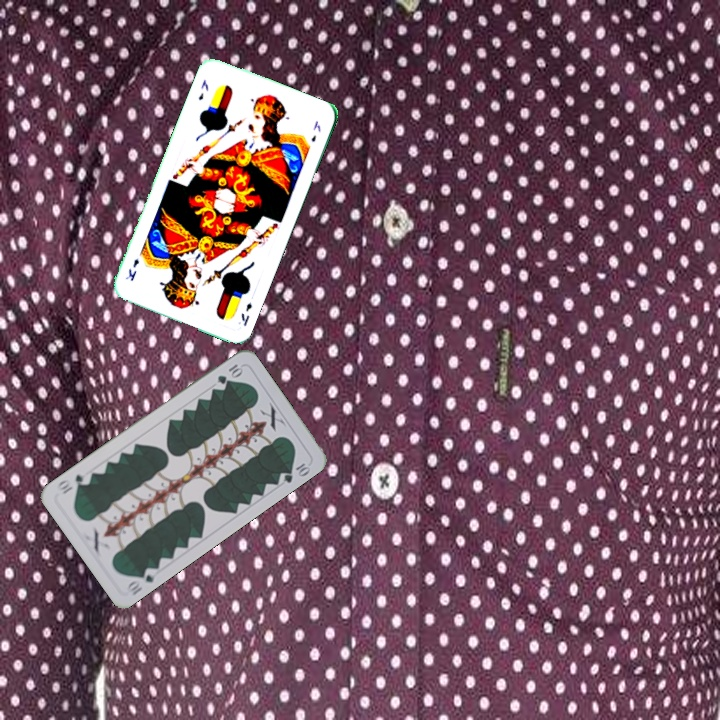EK: (237, 299, 255, 329), (194, 75, 211, 103)
G10: (122, 563, 160, 598), (213, 360, 245, 387)
